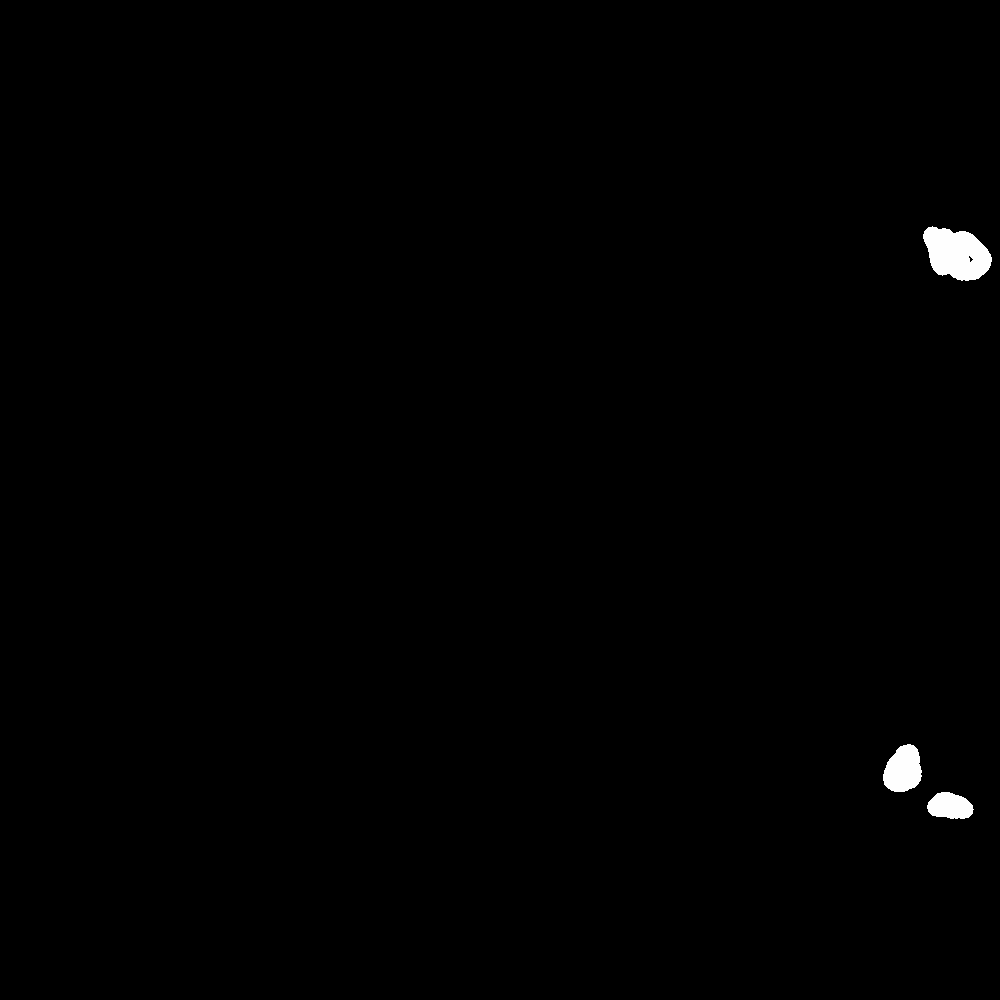illegal: (827, 690, 965, 815), (848, 199, 979, 285)
